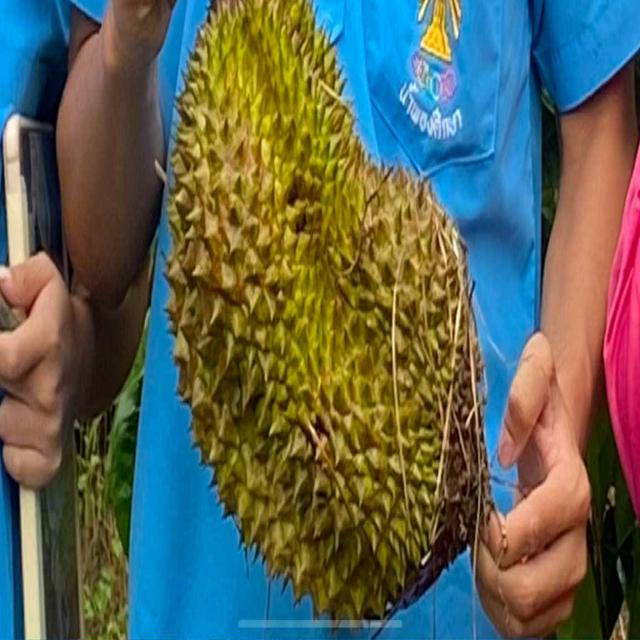RIPE: (168, 2, 492, 619)
